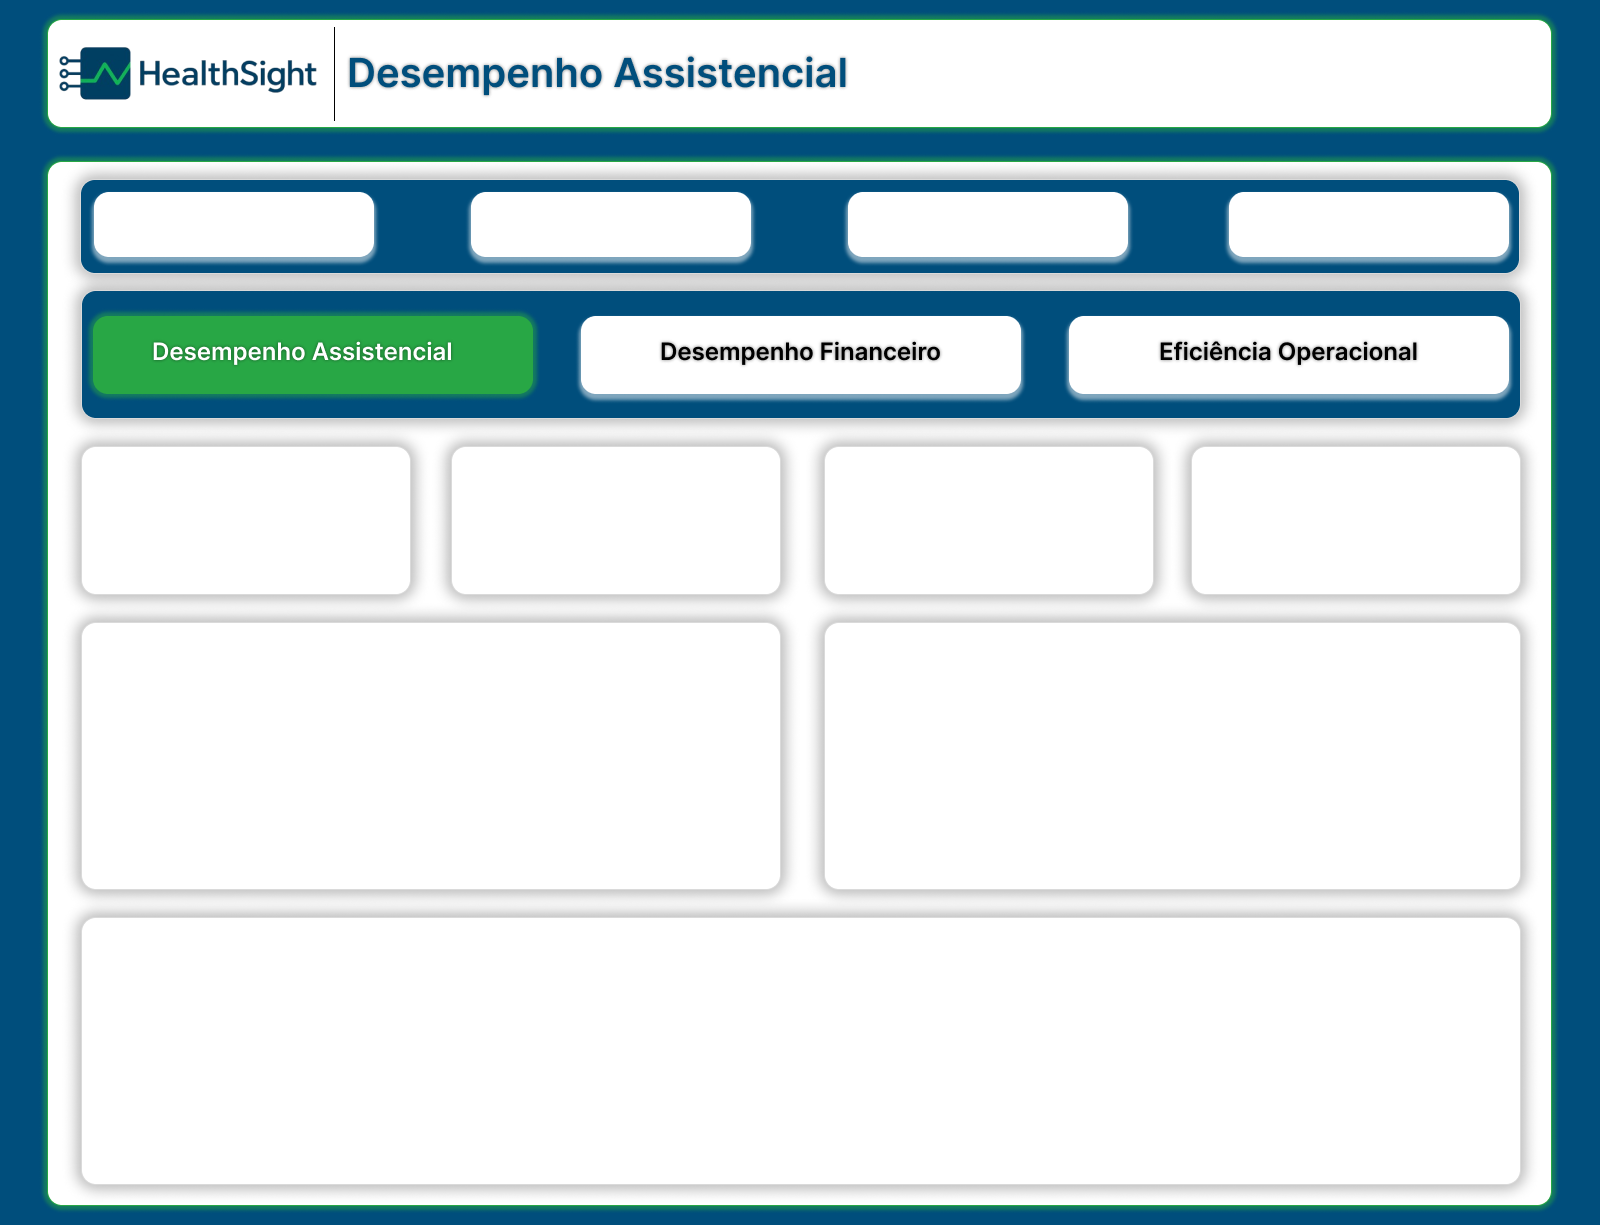

What the dashboard file says about the page in this screenshot:
{"tool":"powerbi","page":{"name":"Desempenho Assistencial","canvas":[1600,1225],"ordinal":0},"visuals":[{"type":"slicer","title":"Mês","fields":{"Values":["dim_tempo.data_ref.Variation.Hierarquia de datas.Mês"]},"box":[472.1,191.4,280,66.4],"z":0},{"type":"slicer","title":"Ano","fields":{"Values":["dim_tempo.data_ref.Variation.Hierarquia de datas.Ano"]},"box":[94.3,191.4,280,66.4],"z":1000},{"type":"slicer","title":"Tipo de Internação","fields":{"Values":["dim_paciente.tipo_internacao"]},"box":[848.6,191.4,280,63.6],"z":2000},{"type":"slicer","title":"Tipo de Convênio","fields":{"Values":["dim_convenio.tipo_convênio"]},"box":[1230,188.3,280,66.7],"z":3000},{"type":"card","title":"Taxa de Ocupação (%)","fields":{"Values":["dim_leito.Taxa Ocupação (%)"]},"box":[78.3,445,331.7,150],"z":4000},{"type":"card","title":"Tempo Médio de Espera (min)","fields":{"Values":["fato_atendimentos.Tempo Médio de Espera (min)"]},"box":[451.7,443.3,331.7,155],"z":5000},{"type":"card","title":"Número de Internações","fields":{"Values":["fato_internacoes.Nº de Internações"]},"box":[818.3,445,340,150],"z":6000},{"type":"card","title":"Receita Média por Internação","fields":{"Values":["fato_internacoes.Receita Média por Internação"]},"box":[1193.3,443.3,323.3,151.7],"z":7000},{"type":"columnChart","title":"Nº de Internações","fields":{"Y":["fato_internacoes.Nº de Internações","fato_internacoes.Nº de Internações"],"Category":["dim_paciente.tipo_internacao"]},"box":[78.3,618.3,705,280],"z":8000},{"type":"pieChart","title":"Quantidade de Pacientes por Genero","fields":{"Y":["fato_internacoes.Nº de Internações"],"Category":["dim_paciente.genero"]},"box":[818.3,618.3,710,280],"z":9000},{"type":"lineChart","fields":{"Y":["fato_internacoes.Nº de Internações"],"Category":["fato_internacoes.data_admissao.Variation.Hierarquia de datas.Mês"]},"box":[78.3,916.7,1450,275],"z":10000},{"type":"pageNavigator","box":[91.7,310,1418.3,81.7],"z":11000}]}

Visuals, with their boxes in screenshot pixels (x1, y1, x2, y2), scaled from the page's 1600x1225 canvas onto the 1600x1225 screenshot:
"Mês" slicer: (472,191,752,258)
"Ano" slicer: (94,191,374,258)
"Tipo de Internação" slicer: (849,191,1129,255)
"Tipo de Convênio" slicer: (1230,188,1510,255)
"Taxa de Ocupação (%)" card: (78,445,410,595)
"Tempo Médio de Espera (min)" card: (452,443,783,598)
"Número de Internações" card: (818,445,1158,595)
"Receita Média por Internação" card: (1193,443,1517,595)
"Nº de Internações" columnChart: (78,618,783,898)
"Quantidade de Pacientes por Genero" pieChart: (818,618,1528,898)
lineChart - fato_internacoes.Nº de Internações x fato_internacoes.data_admissao.Variation.Hierarquia de datas.Mês: (78,917,1528,1192)
pageNavigator: (92,310,1510,392)
